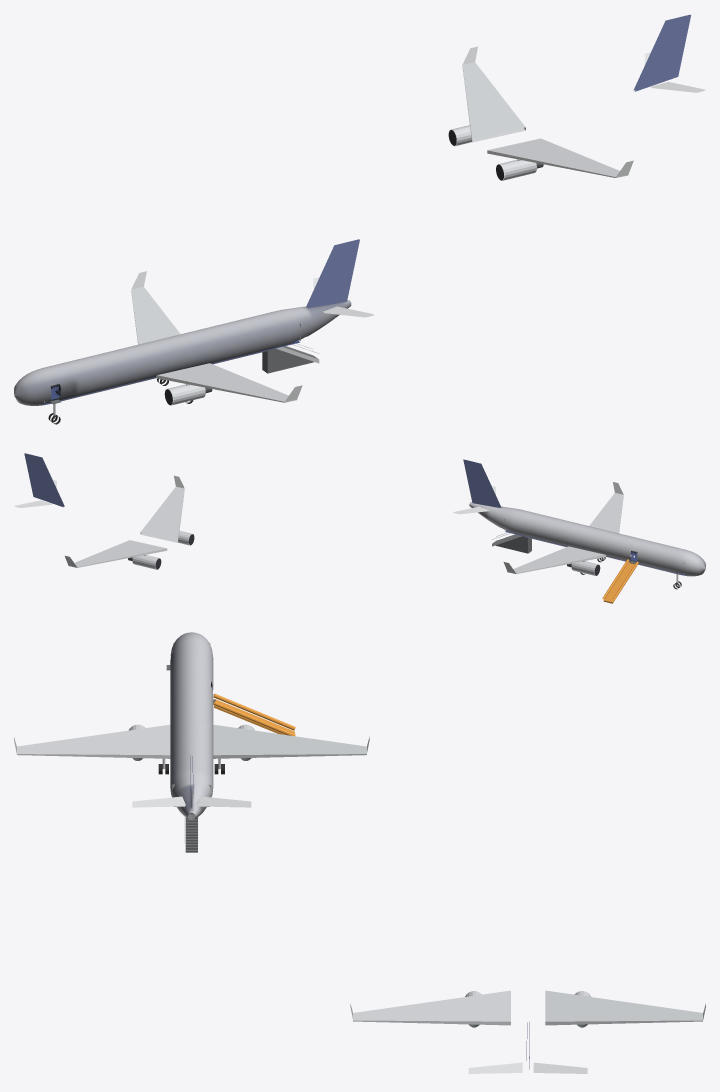
3 views of the same model, one above another, from view 1: azimuth 30°, elevation 25°; view 2: azimuth 150°, elevation 25°; view 3: azimuth 270°, elevation 25° (orthographic). The views are drawn at different scales.
Parts seen in each view (by area): view 1: ARCH_T_Plane, DENSE_T_Plane; view 2: ARCH_T_Plane, DENSE_T_Plane; view 3: ARCH_T_Plane, DENSE_T_Plane.
Boxes of the visible parts, x1,y1,x2,y2 form: ARCH_T_Plane: (43,14,705,424); DENSE_T_Plane: (14,300,351,405); ARCH_T_Plane: (14,453,685,603); DENSE_T_Plane: (469,502,705,576); ARCH_T_Plane: (14,643,705,1073); DENSE_T_Plane: (170,632,213,819).
Bounding box in the file's own units: 117 × 15.09 × 74.34.
